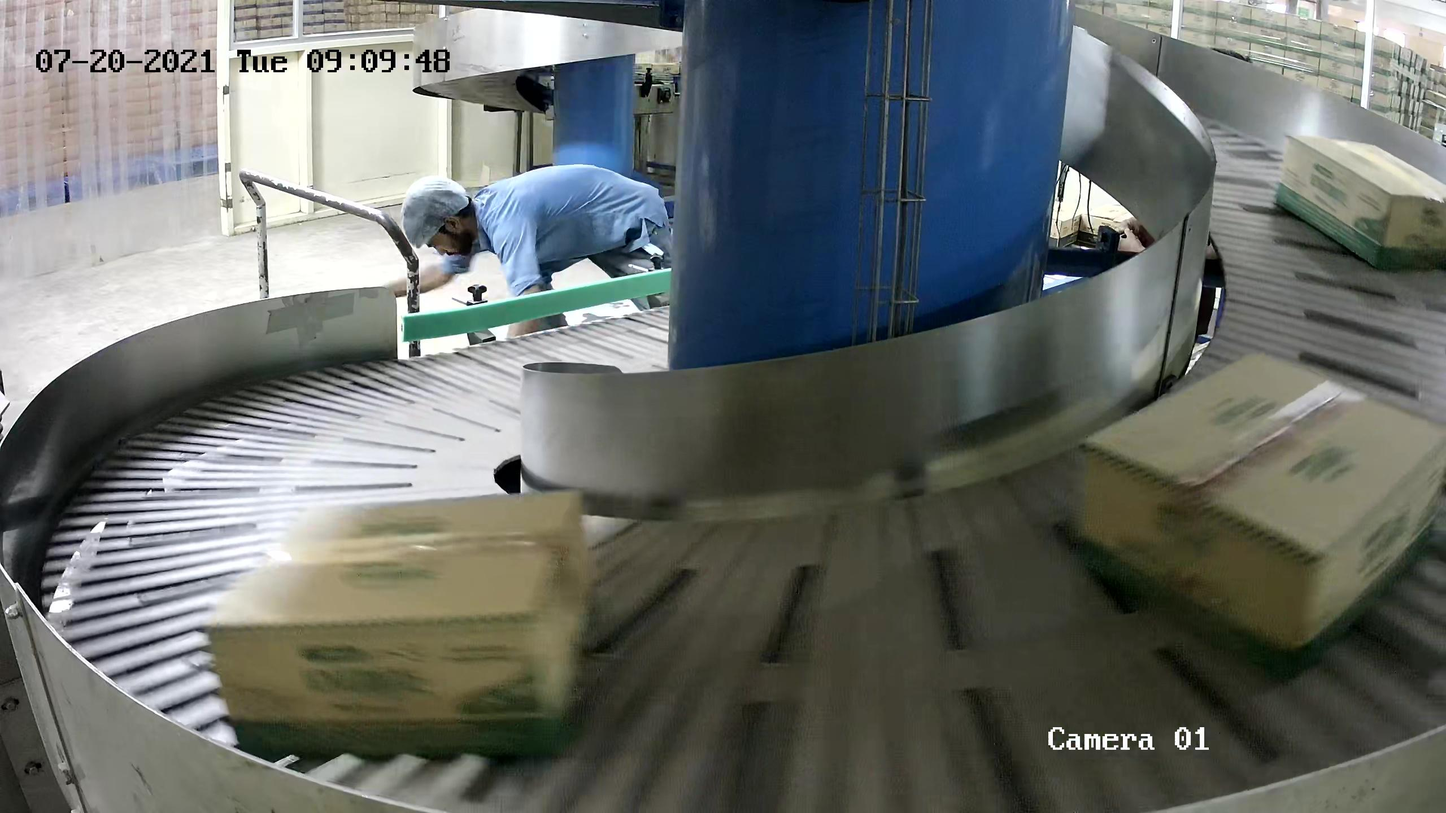Box: (1072, 349, 1446, 684), (200, 484, 594, 762), (1273, 132, 1446, 271)
